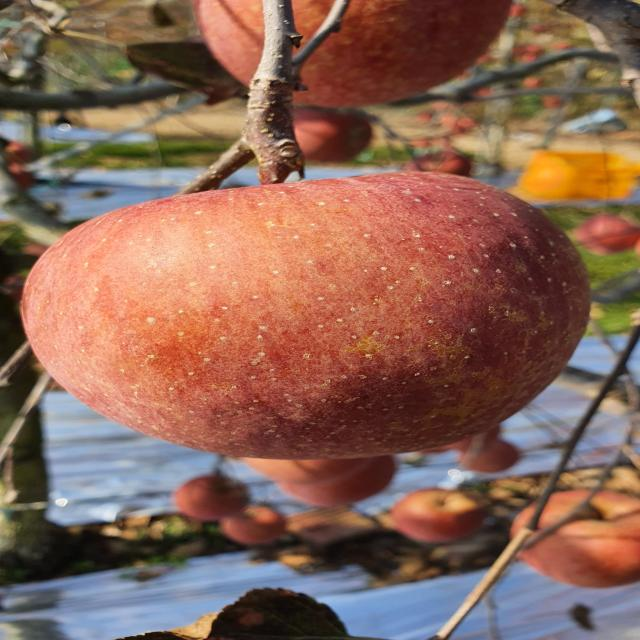fresh: (13, 168, 606, 467)
